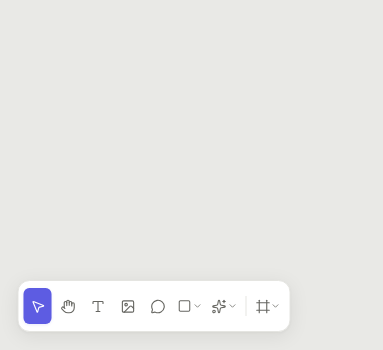
CanvasDock shape menu › selects a variant and closes the menu
Click the button with test id "shape-menu-button".
click(190, 306)  # box [172, 288, 206, 324]
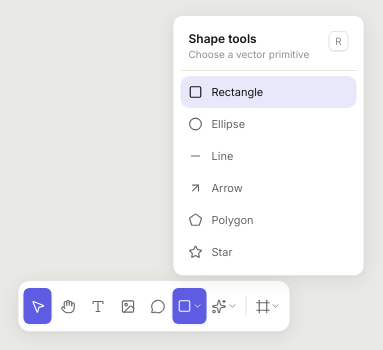
Click the menu item with test id "shape-menu-star".
click(268, 252)  # box [180, 236, 356, 268]
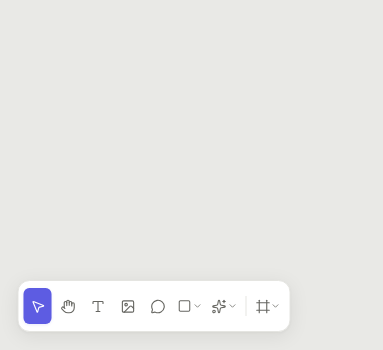
Check: the menu item with test id "shape-menu-star" is gone
